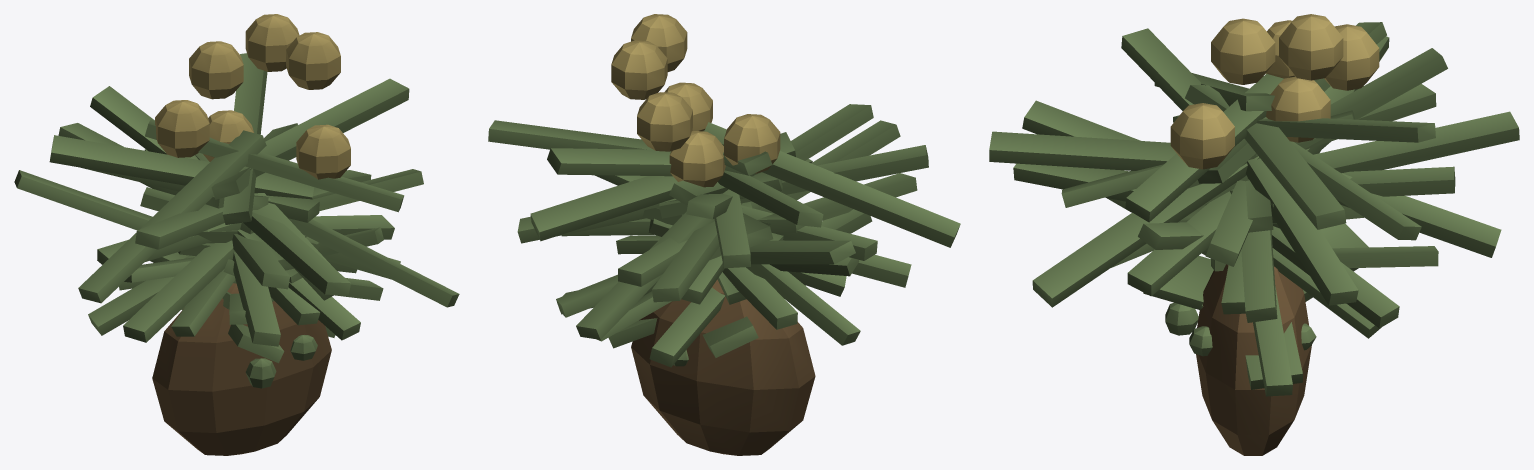
The model's file is crop_oil_sedge.glb.
3 renders of one model, left to right at view 1: azimuth 30°, elevation 25°; view 2: azimuth 150°, elevation 25°; view 3: azimuth 270°, elevation 25°, orthographic. The views are drawn at different scales.
Visible parts, largest first — view 1: seed_mound, oleaf.009, oleaf.012, oleaf.013, oleaf, oleaf.021, oleaf.019, oleaf.017, oleaf.003, nut.002, nut, nut.001 (+27 smaller); view 2: seed_mound, oleaf.012, oleaf.002, oleaf.003, oleaf, oleaf.004, oleaf.014, nut, oleaf2.006, nut.005, oleaf.007, oleaf.010 (+29 smaller); view 3: seed_mound, oleaf.019, oleaf.017, oleaf.007, oleaf.001, oleaf, oleaf.021, oleaf.002, nut.002, nut.003, nut.005, oleaf.006 (+28 smaller).
Part boxes in pixels (x1=…): seed_mound: x1=152, y1=283, x2=331, y2=455; oleaf.009: x1=49, y1=135, x2=314, y2=199; oleaf.012: x1=78, y1=130, x2=266, y2=303; oleaf.013: x1=123, y1=240, x2=235, y2=342; oleaf: x1=239, y1=78, x2=409, y2=176; oleaf.021: x1=145, y1=119, x2=404, y2=212; oleaf.019: x1=254, y1=195, x2=459, y2=307; oleaf.017: x1=243, y1=212, x2=350, y2=295; oleaf.003: x1=222, y1=53, x2=267, y2=224; nut.002: x1=286, y1=32, x2=340, y2=89; nut: x1=189, y1=41, x2=243, y2=99; nut.001: x1=155, y1=100, x2=209, y2=157; seed_mound: x1=631, y1=279, x2=815, y2=455; oleaf.012: x1=704, y1=122, x2=960, y2=247; oleaf.002: x1=530, y1=132, x2=795, y2=241; oleaf.003: x1=547, y1=148, x2=761, y2=176; oleaf: x1=488, y1=120, x2=754, y2=176; oleaf.004: x1=576, y1=212, x2=714, y2=339; oleaf.014: x1=659, y1=145, x2=928, y2=218; nut: x1=637, y1=92, x2=692, y2=151; oleaf2.006: x1=746, y1=264, x2=860, y2=345; nut.005: x1=611, y1=40, x2=667, y2=99; oleaf.007: x1=652, y1=203, x2=741, y2=302; oleaf.010: x1=749, y1=240, x2=855, y2=264; seed_mound: x1=1196, y1=264, x2=1311, y2=455; oleaf.019: x1=1032, y1=156, x2=1259, y2=307; oleaf.017: x1=989, y1=131, x2=1176, y2=170; oleaf.007: x1=1230, y1=111, x2=1519, y2=194; oleaf.001: x1=1245, y1=158, x2=1358, y2=305; oleaf: x1=1244, y1=117, x2=1346, y2=229; oleaf.021: x1=1125, y1=73, x2=1283, y2=222; oleaf.002: x1=1185, y1=85, x2=1421, y2=240; nut.002: x1=1211, y1=18, x2=1275, y2=84; nut.003: x1=1170, y1=103, x2=1234, y2=169; nut.005: x1=1279, y1=14, x2=1343, y2=80; oleaf.006: x1=1197, y1=48, x2=1447, y2=209.
Size of the model in its own units: 0.6787 by 0.6778 by 0.7039.
